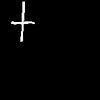single_crochet: (11, 2, 34, 41)
